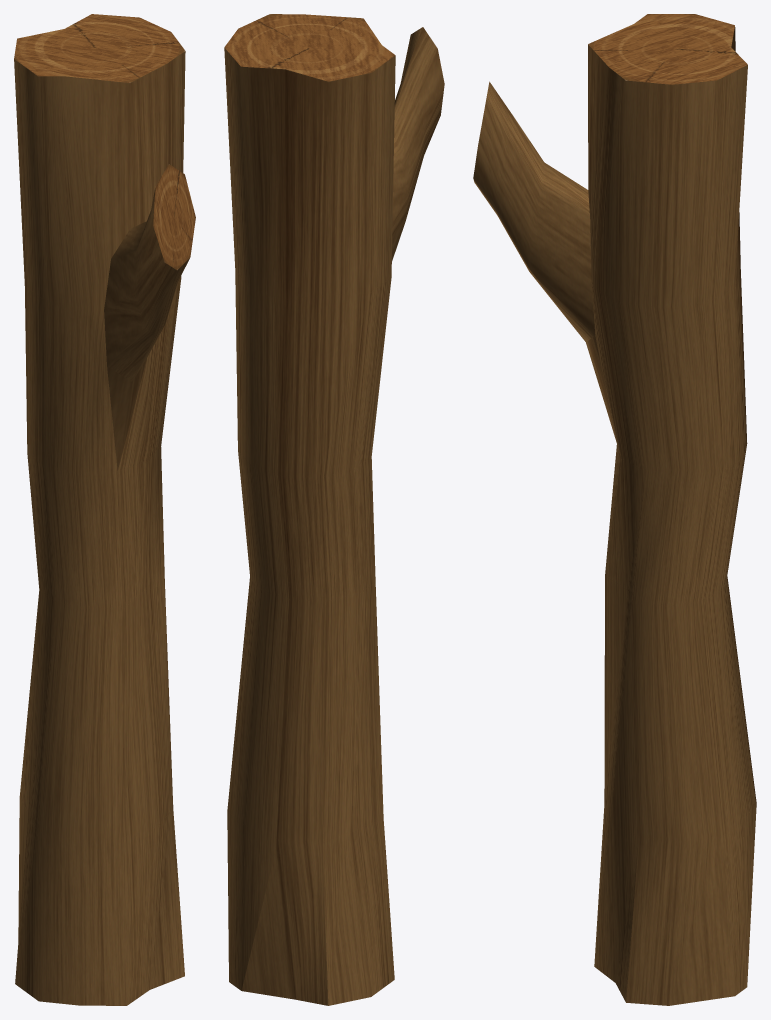
The model's file is stick.FBX.
The picture shows the model from 3 angles, left to right: view 1: azimuth 30°, elevation 25°; view 2: azimuth 150°, elevation 25°; view 3: azimuth 270°, elevation 25°; orthographic projection.
Visible parts, largest first — view 1: Cylinder001; view 2: Cylinder001; view 3: Cylinder001.
Part boxes in pixels (x1,y1,x2,y2): Cylinder001: [14, 14, 195, 1005]; Cylinder001: [224, 14, 444, 1005]; Cylinder001: [473, 14, 756, 1005].
Size of the model in its own units: 75.8 by 461 by 128.
Materials: 1 (1 with a texture image).
